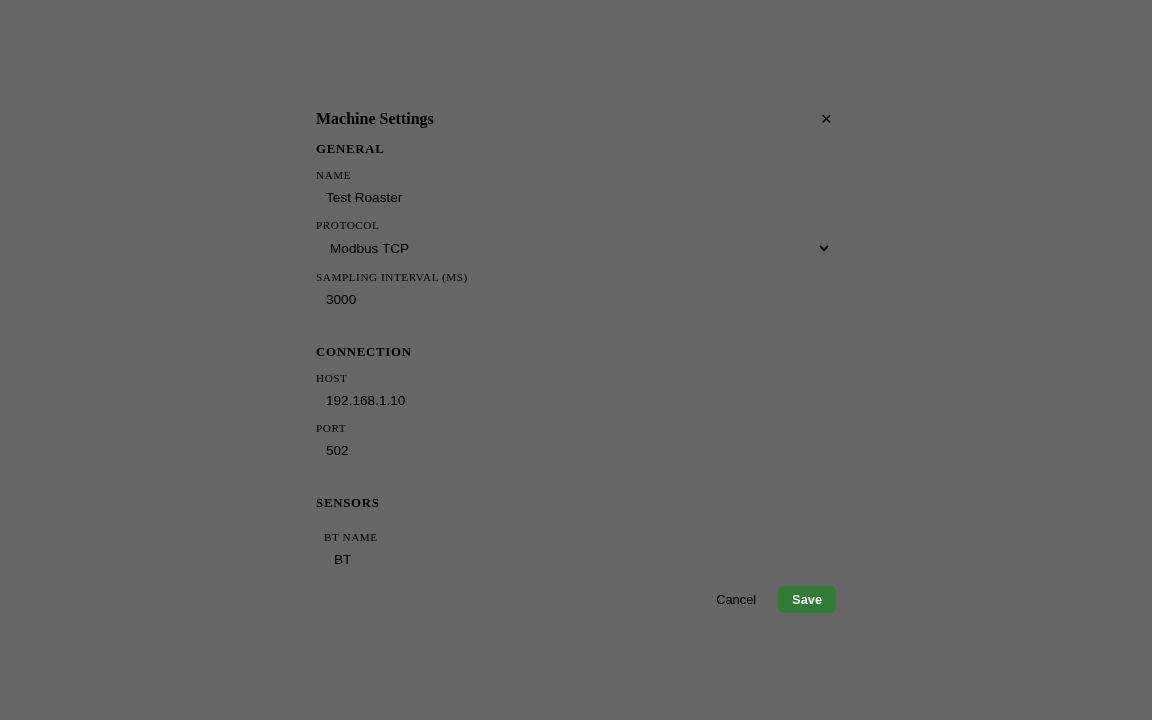
Test case: MachineSettingsPanel › disables Save button when name is empty
Clear the field showing "Test Roaster" at (574, 197), box [316,184,832,210]
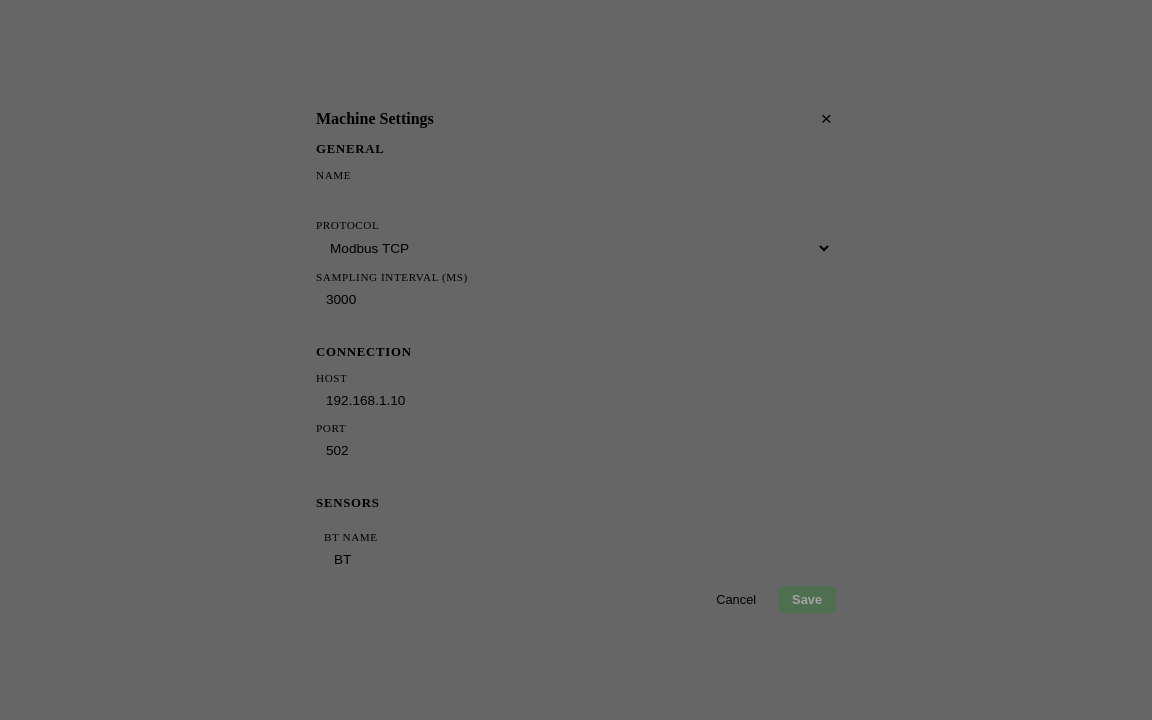
Expected: the button "Save" is disabled, [778,586,836,612]
